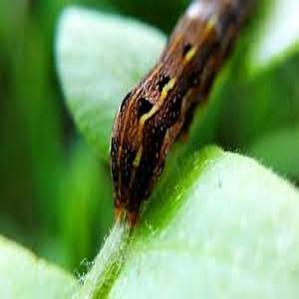Tobacco cutworm: (83, 0, 289, 231)
